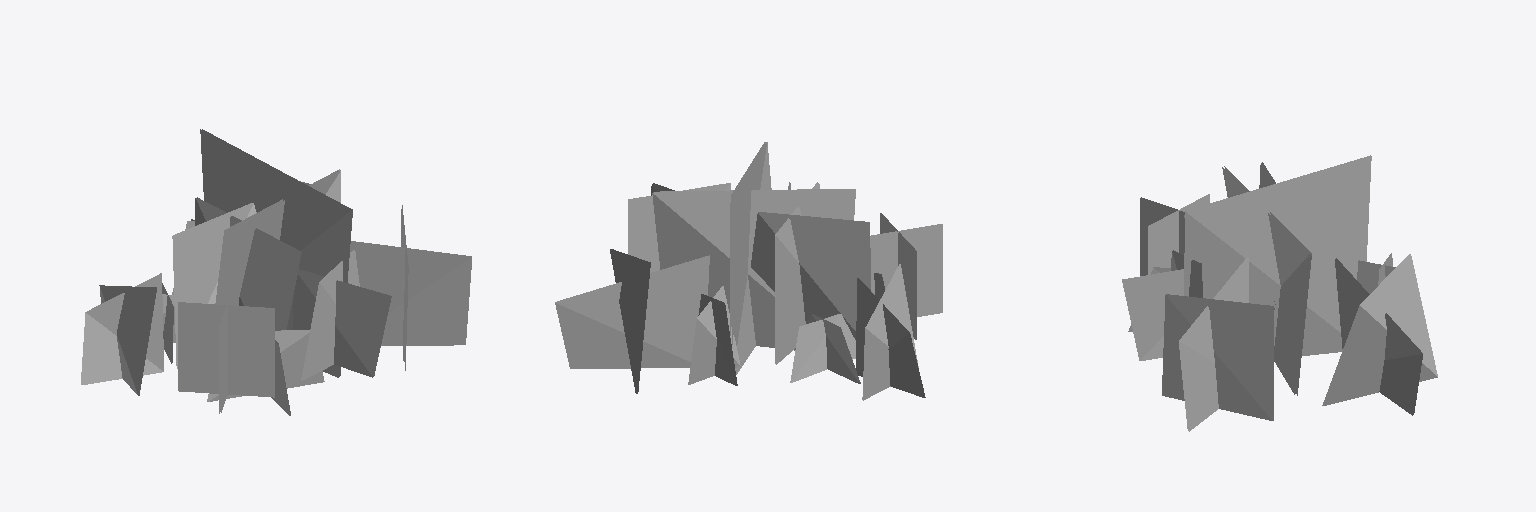
File: WoWGrassClump.obj
3 views of the same model, side by side, from view 1: azimuth 30°, elevation 25°; view 2: azimuth 150°, elevation 25°; view 3: azimuth 270°, elevation 25° (orthographic).
Visible parts, largest first — view 1: Plane.004_Plane.006; view 2: Plane.004_Plane.006; view 3: Plane.004_Plane.006.
Part boxes in pixels (x1,y1,x2,y2): Plane.004_Plane.006: (81, 129, 471, 415); Plane.004_Plane.006: (555, 142, 942, 400); Plane.004_Plane.006: (1122, 155, 1437, 431).
Bounding box in the file's own units: 1.04 × 0.5731 × 0.8583.